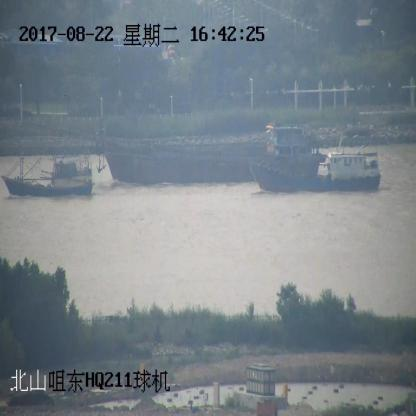Bulk Carrier: (23, 120, 322, 184)
